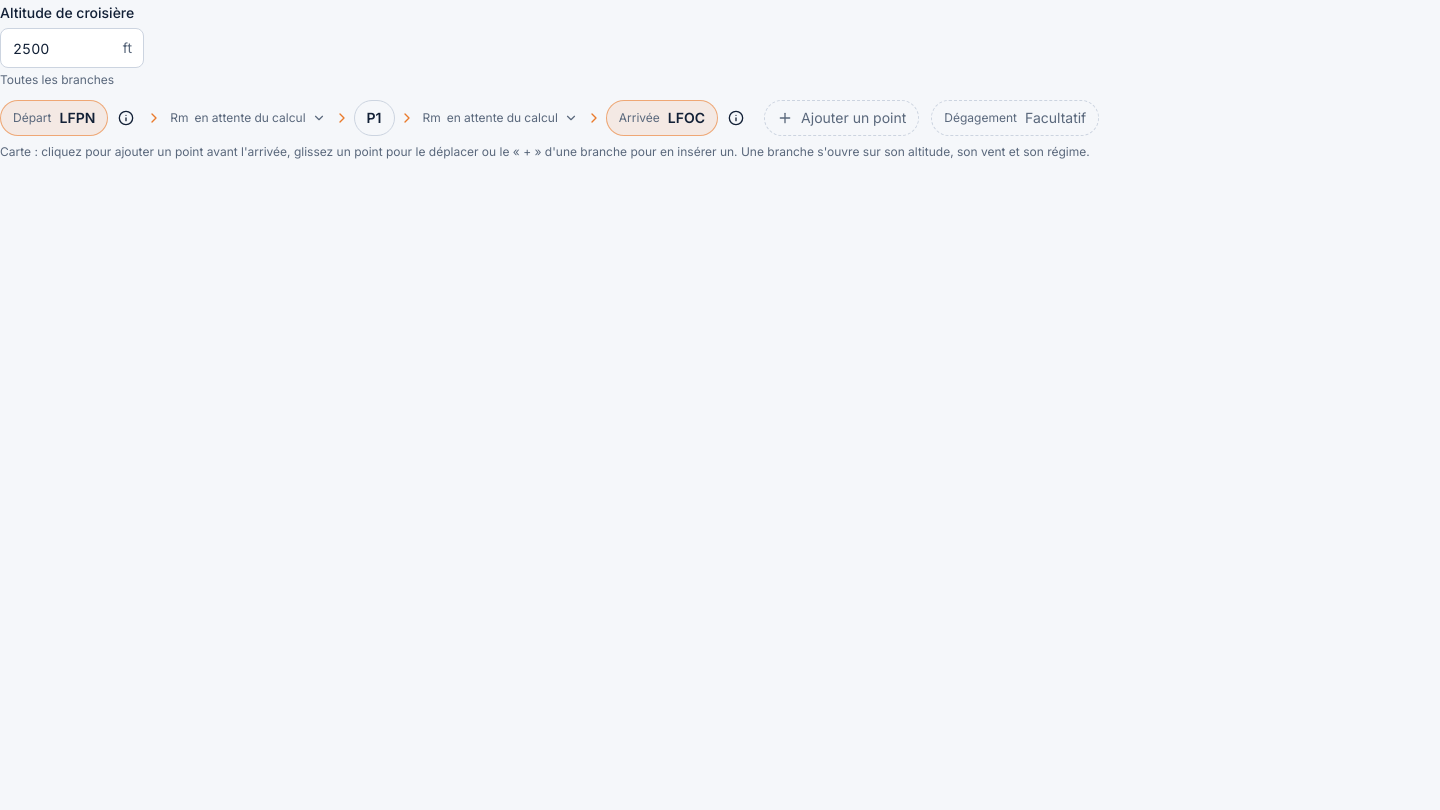
Scenario: RouteEditor › renames a turning point from its chip
The image size is (1440, 810).
Click the button named "Point tournant 1 : P1": (374, 118) [354,100,395,136]
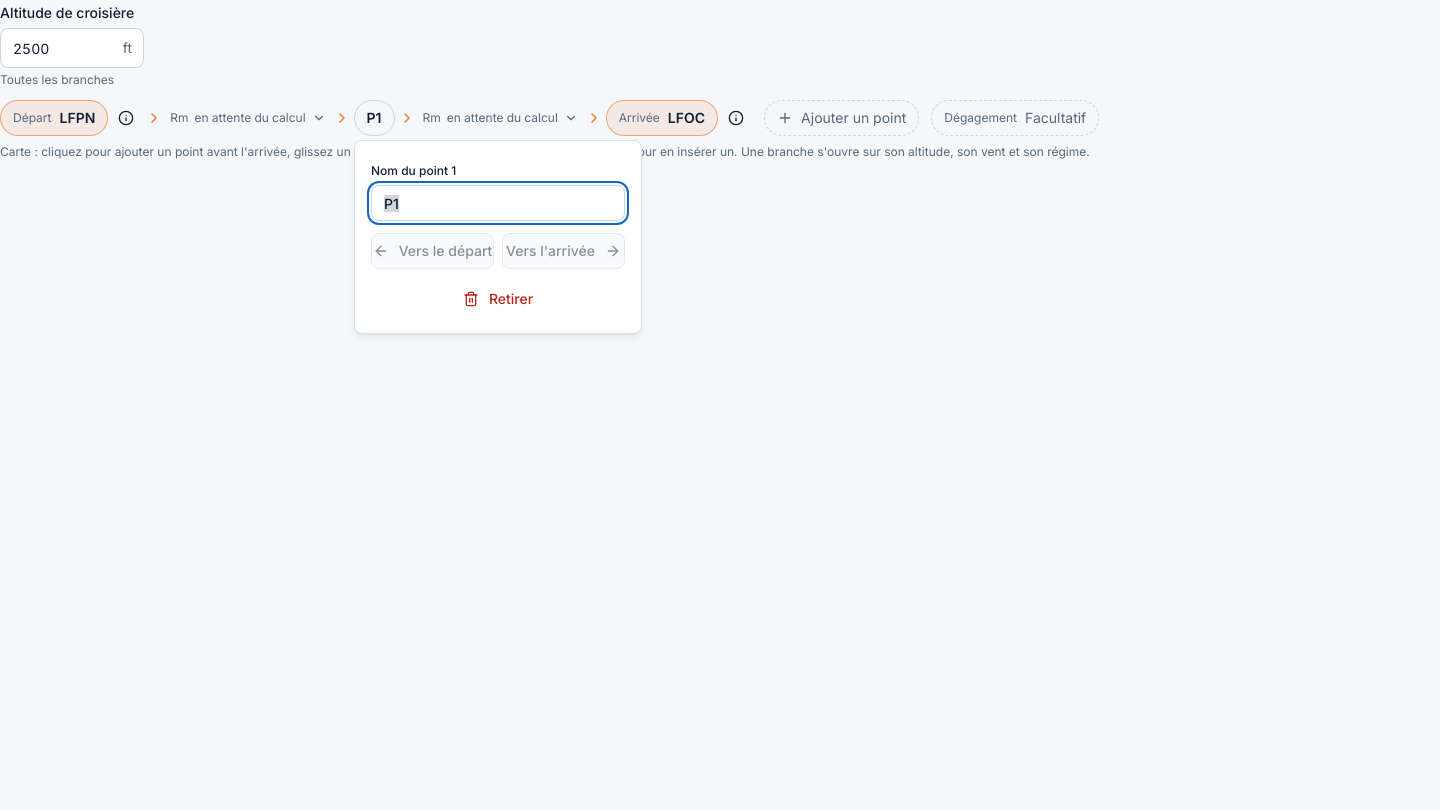
Replace the text in the field labelled "Nom du point 1" with "Château": (498, 203) [371,185,625,221]
Then press Enter
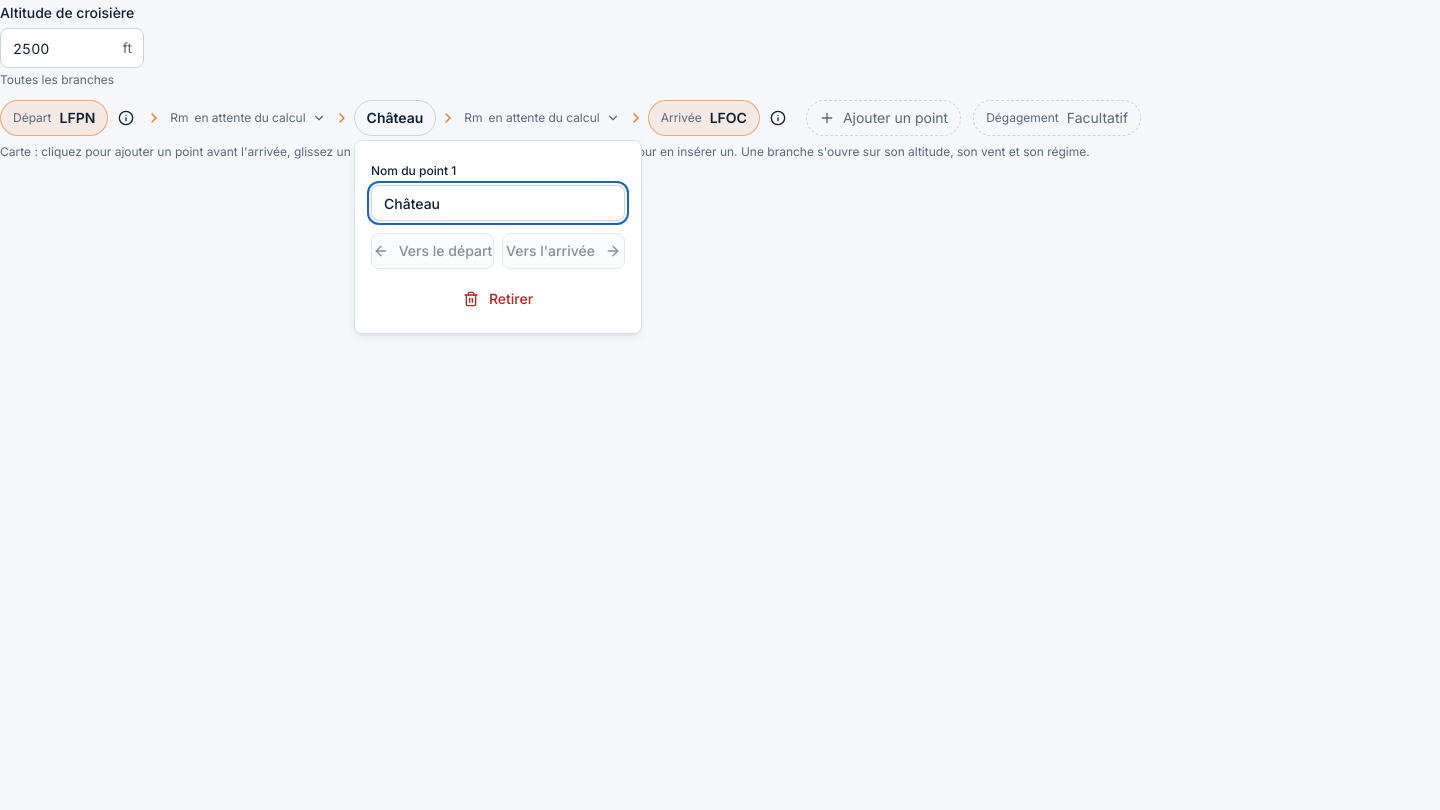
Expected: the text "Château" is shown, [367,108,423,128]
